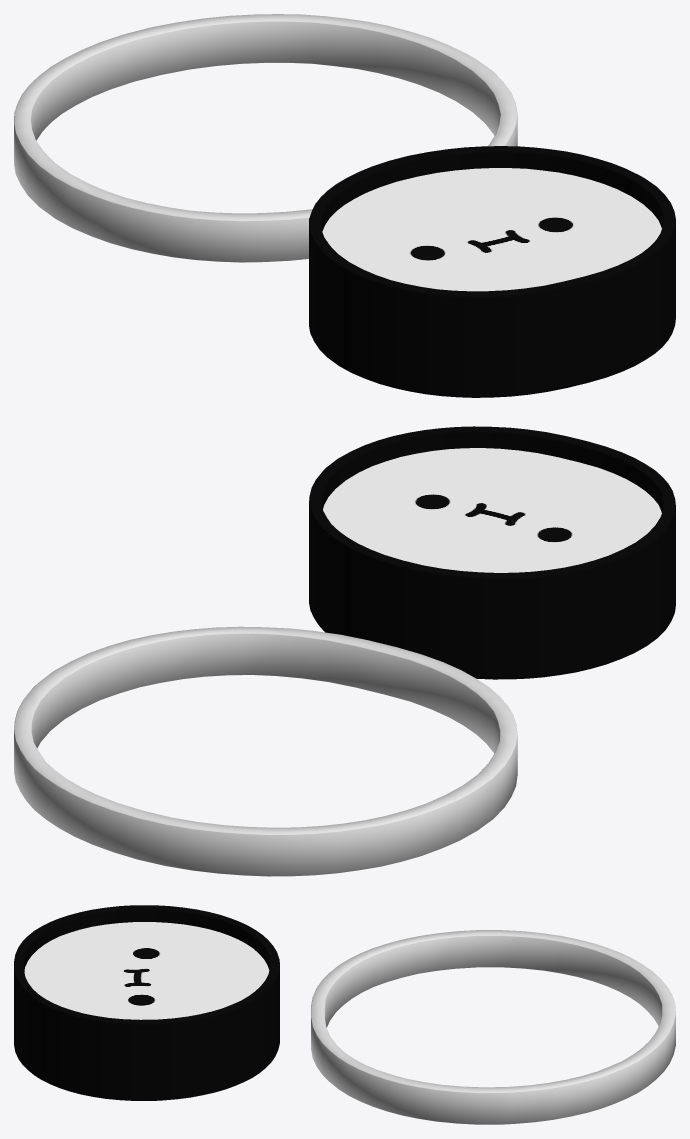
The picture shows the model from 3 angles, top to bottom: view 1: azimuth 30°, elevation 25°; view 2: azimuth 150°, elevation 25°; view 3: azimuth 270°, elevation 25°; orthographic projection. The views are drawn at different scales.
Parts seen in each view (by area): view 1: Circle, Plane.003; view 2: Circle, Plane.003; view 3: Circle, Plane.003.
Part boxes in pixels (left/top/right/bottom): Circle: left=309, top=146, right=675, bottom=397; Plane.003: left=14, top=14, right=517, bottom=262; Circle: left=309, top=426, right=675, bottom=679; Plane.003: left=14, top=626, right=517, bottom=876; Circle: left=14, top=905, right=279, bottom=1100; Plane.003: left=311, top=930, right=675, bottom=1124.
Size of the model in its own units: 1.64 by 0.3707 by 2.81.
1 material, 1 textured.
